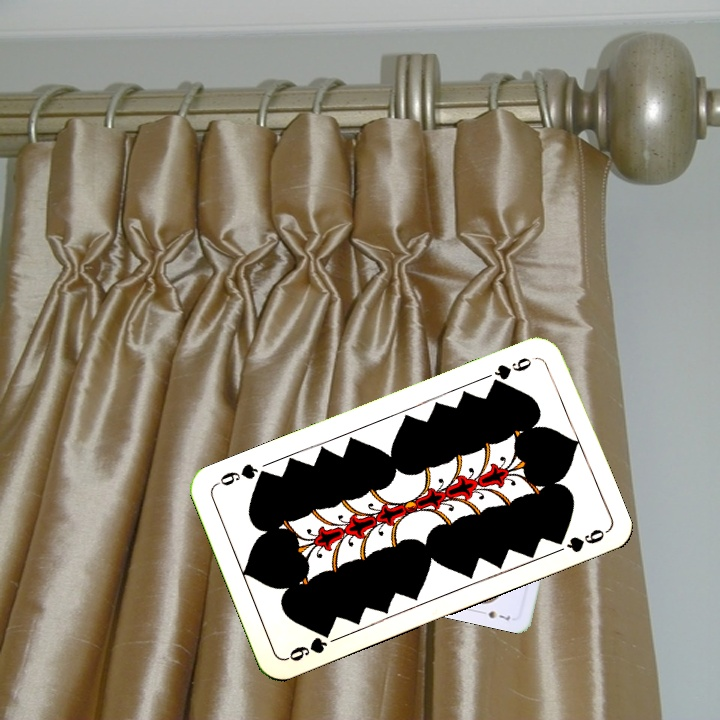G9: (282, 624, 334, 664), (486, 352, 539, 390)
